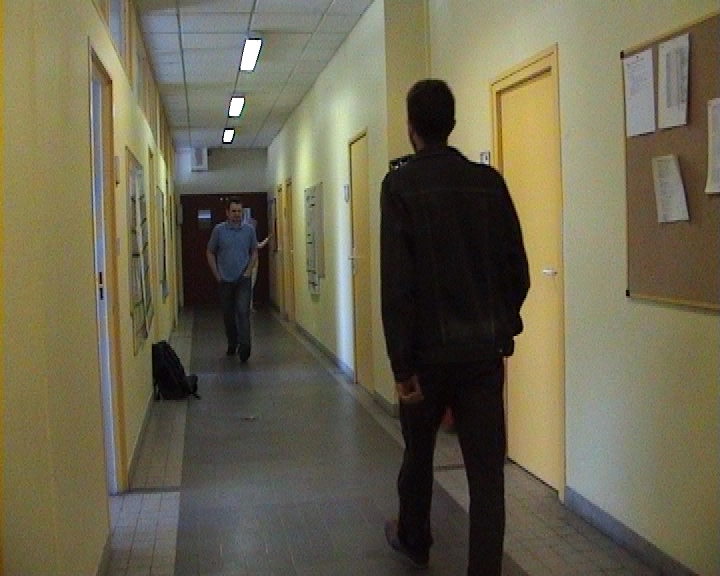leave bag unattended: (132, 320, 213, 416)
